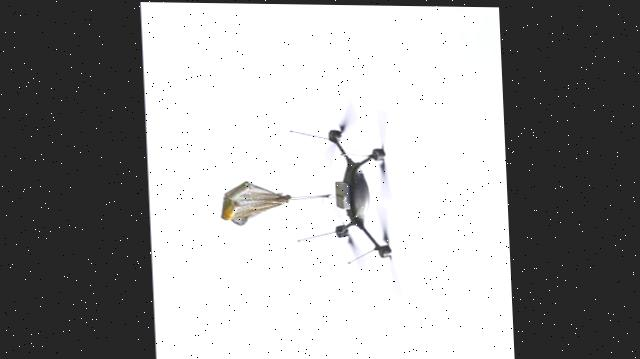drone: (276, 92, 432, 295)
